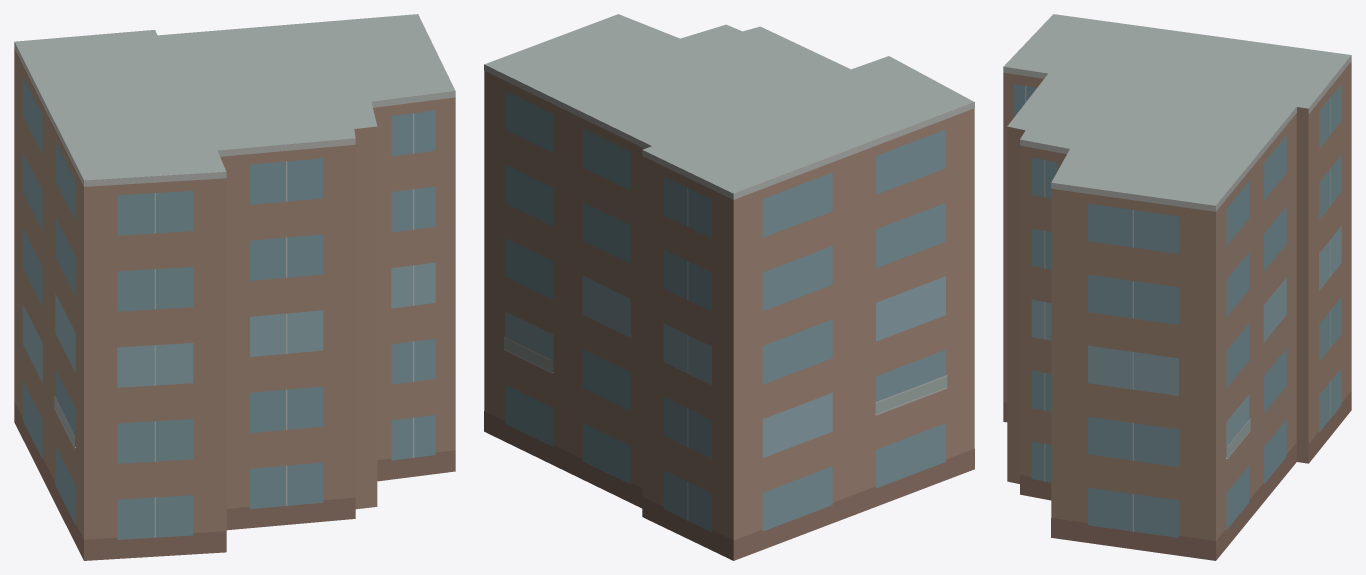
Rendered from survey-upis-32880528.glb.
3 renders of one model, left to right at view 1: azimuth 30°, elevation 25°; view 2: azimuth 150°, elevation 25°; view 3: azimuth 270°, elevation 25°, orthographic. The views are drawn at different scales.
Parts seen in each view (by area): view 1: survey-upis-32880528.tmp; view 2: survey-upis-32880528.tmp; view 3: survey-upis-32880528.tmp.
Part boxes in pixels (x1,y1,x2,y2): survey-upis-32880528.tmp: [14, 14, 455, 560]; survey-upis-32880528.tmp: [484, 14, 974, 560]; survey-upis-32880528.tmp: [1003, 14, 1351, 560].
Size of the model in its own units: 16.81 by 14.5 by 12.9.
